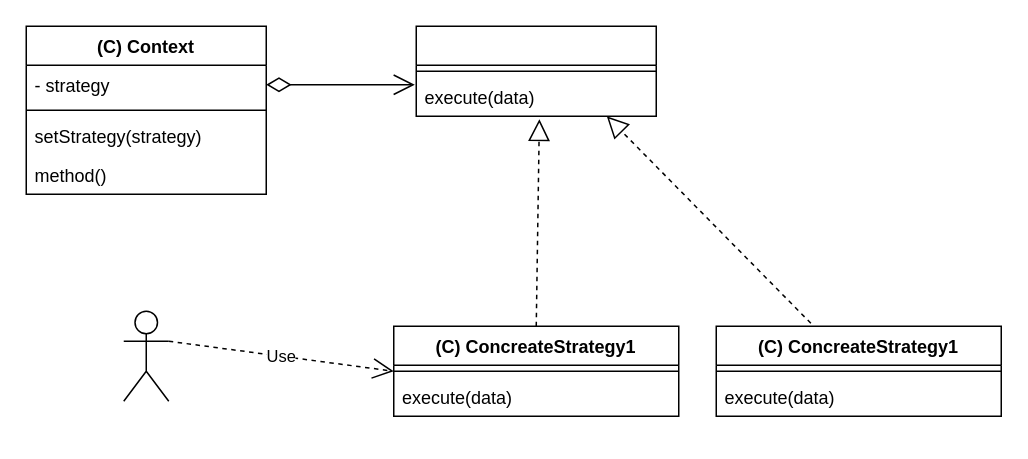
Some shapes in this 1028 by 459 pixel diagram are drawn without their labels. The shapes that lost their labels are listed below. From the top down, each one's box as (x1, y1, x2, y2) in pixels, then its label:
(415, 25, 656, 116): (I) Strategy
(122, 310, 169, 401): Client
